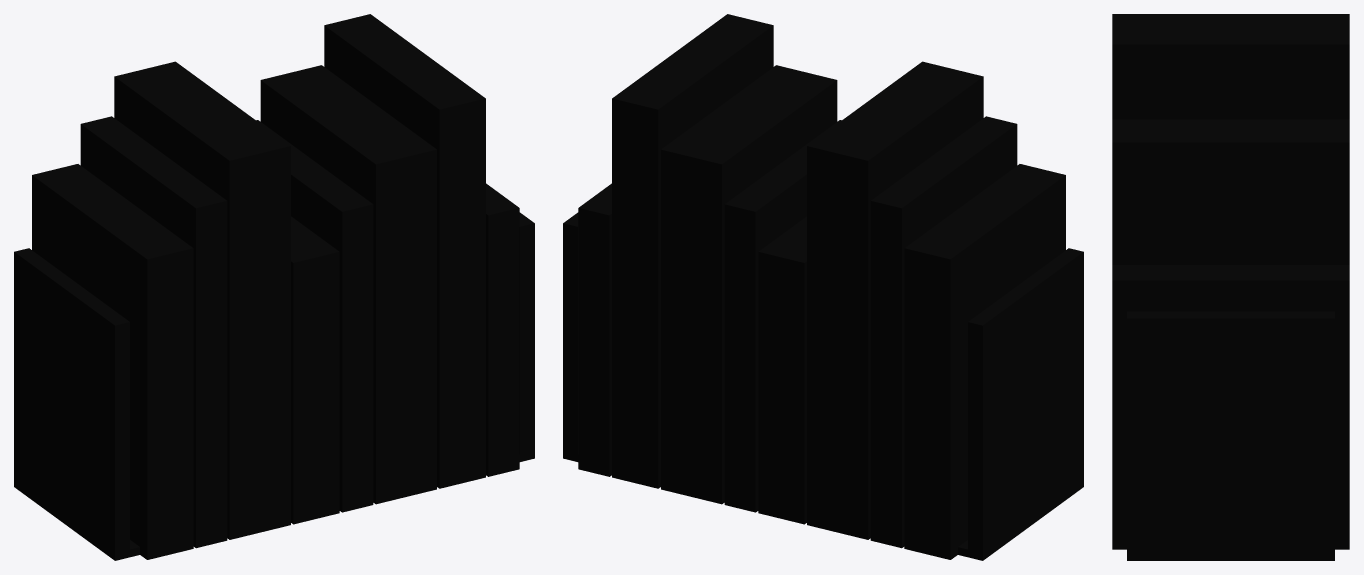
The model's file is SM_book_row.fbx.
3 renders of one model, left to right at view 1: azimuth 30°, elevation 25°; view 2: azimuth 150°, elevation 25°; view 3: azimuth 270°, elevation 25°, orthographic. The views are drawn at different scales.
Visible parts, largest first — view 1: book_row; view 2: book_row; view 3: book_row.
Boxes of the visible parts, box(x1,y1,x2,y2) form: book_row: box(14, 14, 534, 560); book_row: box(563, 14, 1083, 560); book_row: box(1112, 14, 1349, 560).
Size of the model in its own units: 0.336 by 0.29 by 0.16.
